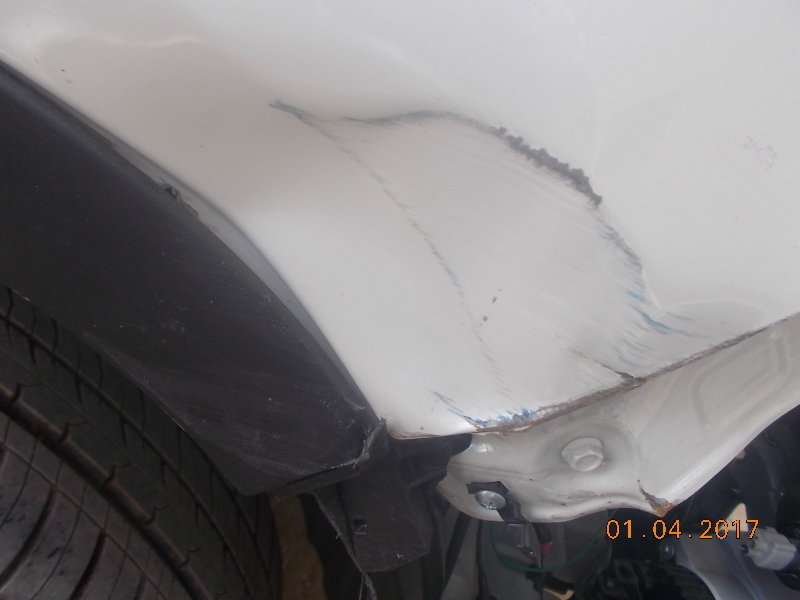Scratch_or_spot: (446, 98, 611, 205), (282, 82, 433, 134)
